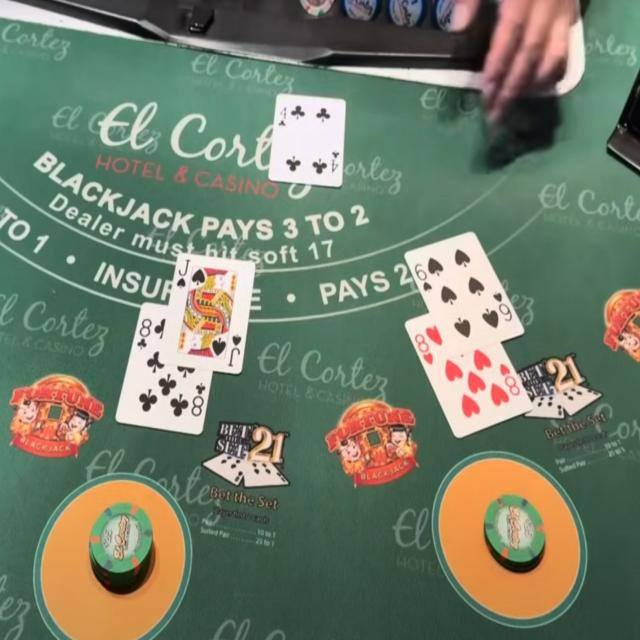4: (277, 102, 289, 120)
6: (413, 261, 428, 282)
8: (412, 332, 430, 353), (138, 316, 153, 338)
J: (177, 257, 191, 277)
